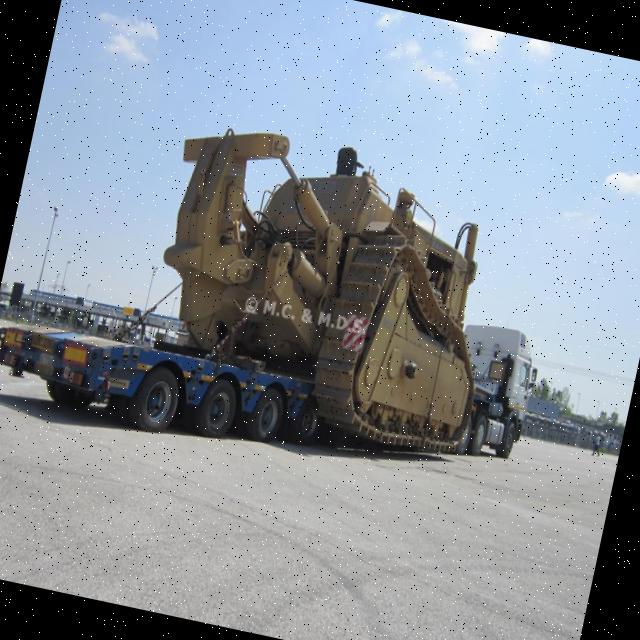Bulldozer: (121, 74, 549, 481)
